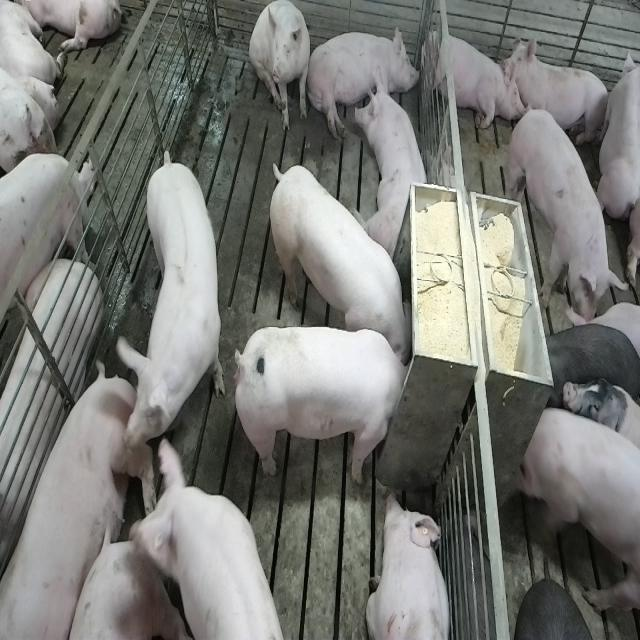Feeding: (264, 161, 412, 361), (240, 324, 418, 484)
Lateral_lying: (4, 360, 159, 636), (0, 263, 100, 602), (306, 21, 421, 138)
Sitting: (250, 2, 312, 134)
Standing: (133, 434, 295, 640), (114, 147, 222, 449), (520, 399, 638, 632), (508, 103, 625, 326), (0, 157, 94, 347), (540, 324, 640, 414)
Sternal_lying: (354, 73, 433, 258), (365, 490, 453, 640), (505, 30, 610, 144), (425, 27, 516, 133)
